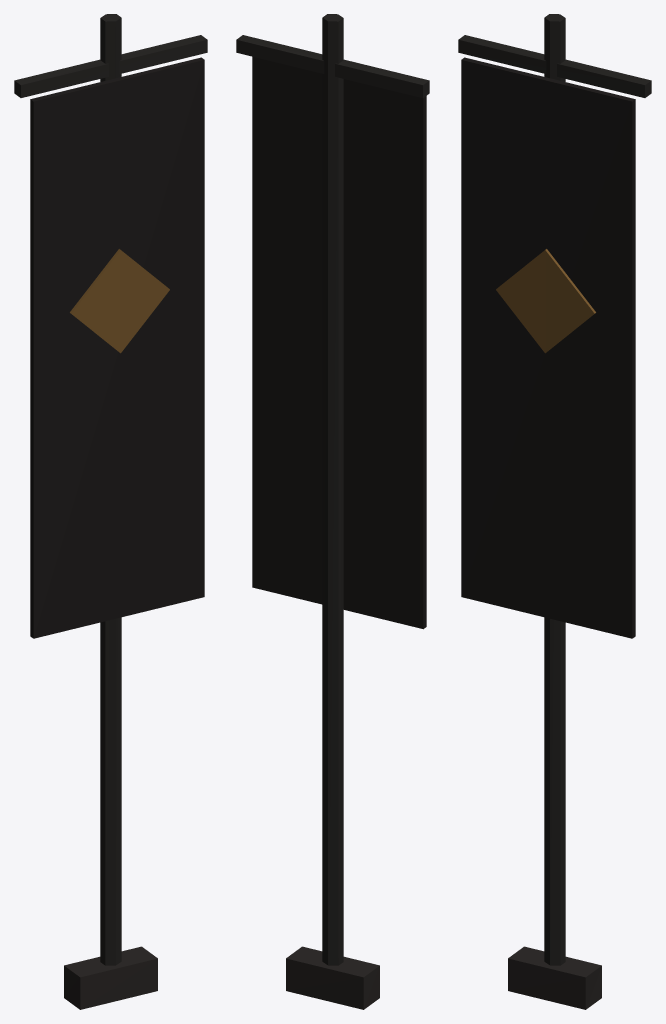
File: warhost-banner-a.glb
3 renders of one model, left to right at view 1: azimuth 30°, elevation 25°; view 2: azimuth 150°, elevation 25°; view 3: azimuth 330°, elevation 25°, orthographic.
Parts seen in each view (by area): view 1: warhost-banner-a; view 2: warhost-banner-a; view 3: warhost-banner-a.
Part boxes in pixels (box(x1,y1,x2,y2)): warhost-banner-a: box(14, 14, 207, 1009); warhost-banner-a: box(236, 14, 429, 1009); warhost-banner-a: box(458, 14, 651, 1009).
Size of the model in its own units: 1.2 by 6 by 0.2.
